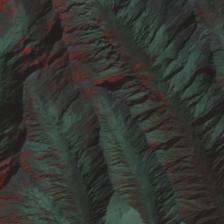landslides: (40, 208, 57, 224), (76, 174, 84, 190), (103, 1, 112, 15)
